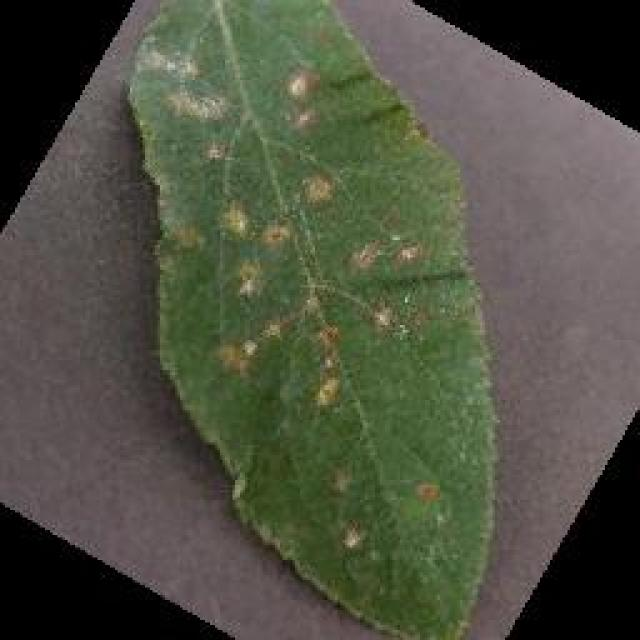apple scab disease: (120, 0, 502, 638)
